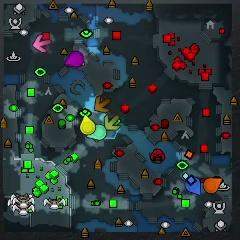p1: (184, 176, 202, 196)
p2: (84, 124, 106, 140)
p3: (64, 51, 84, 67)
p4: (80, 115, 95, 134)
p5: (203, 177, 223, 194)
x1: (33, 36, 50, 52)
x2: (104, 114, 120, 131)
x5: (95, 96, 111, 113)
